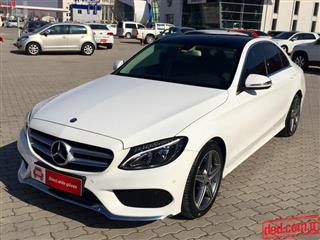araba: (15, 34, 306, 225)
